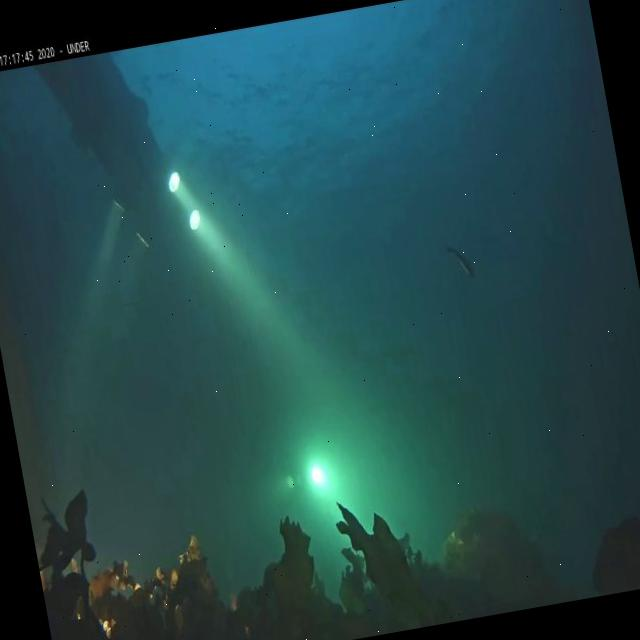fish: (442, 237, 477, 284)
